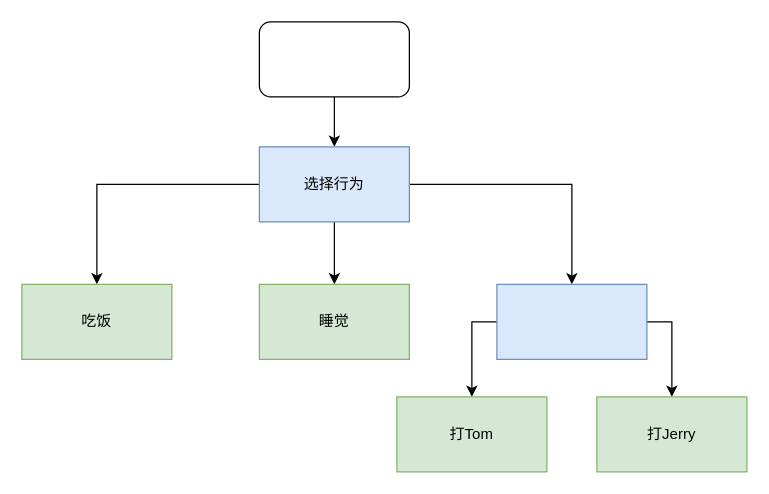
This 769x494 diagram has some shape labels left out. Here are the shapes that lost their labels. From the top down, the centre of each, then its label:
At (x=333, y=59): "入口".
At (x=571, y=321): "顺序执行行为".
